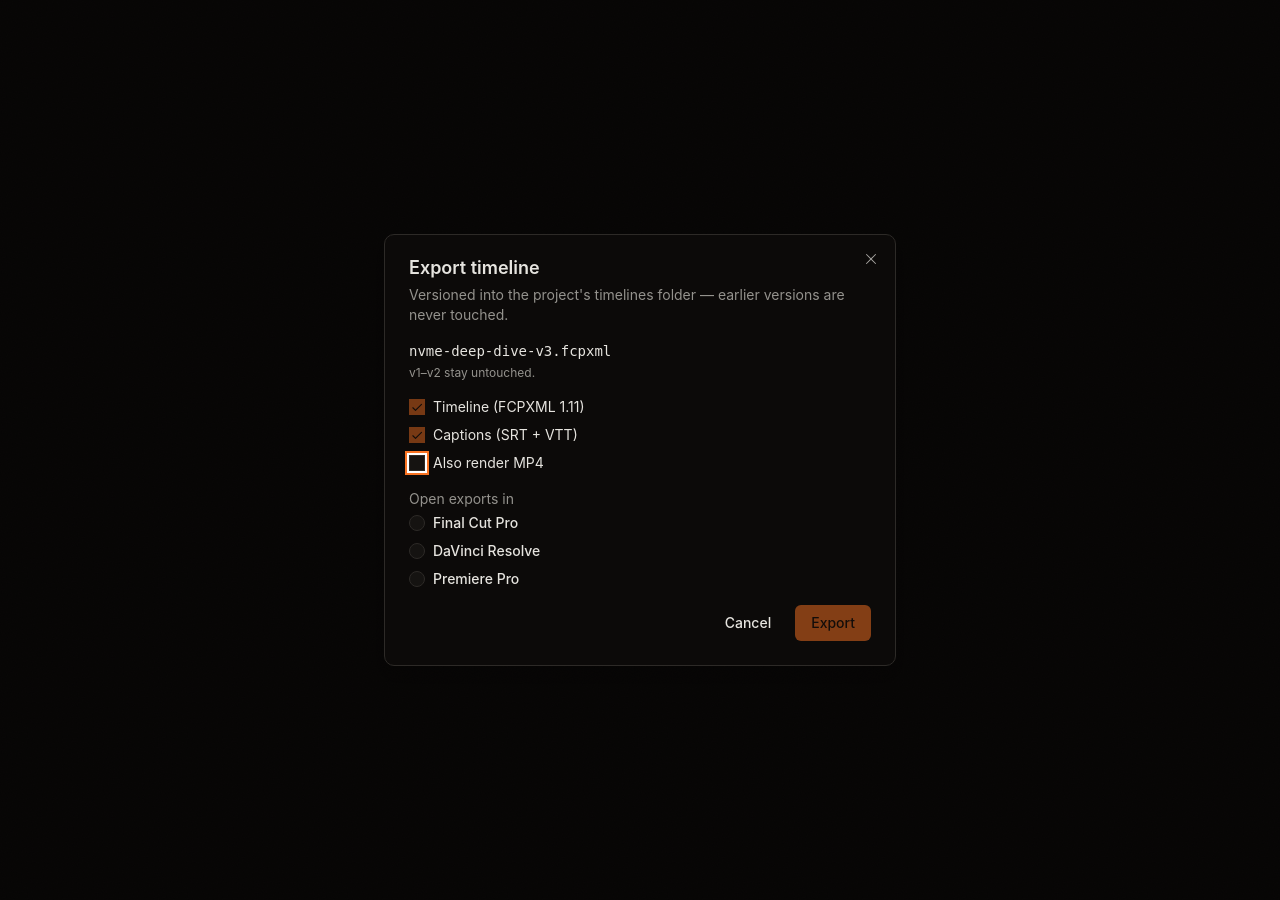
Scenario: ExportDialog › forces an NLE pick on first export and previews the exact filename
Expected: the text "nvme-deep-dive-v3.fcpxml" is shown, [409,343,611,359]
Expected: the button "Export" is disabled, [795,605,871,641]
Click the radio button named "Final Cut" next to "Final Cut Pro" at [417, 523], box [409,515,425,531]
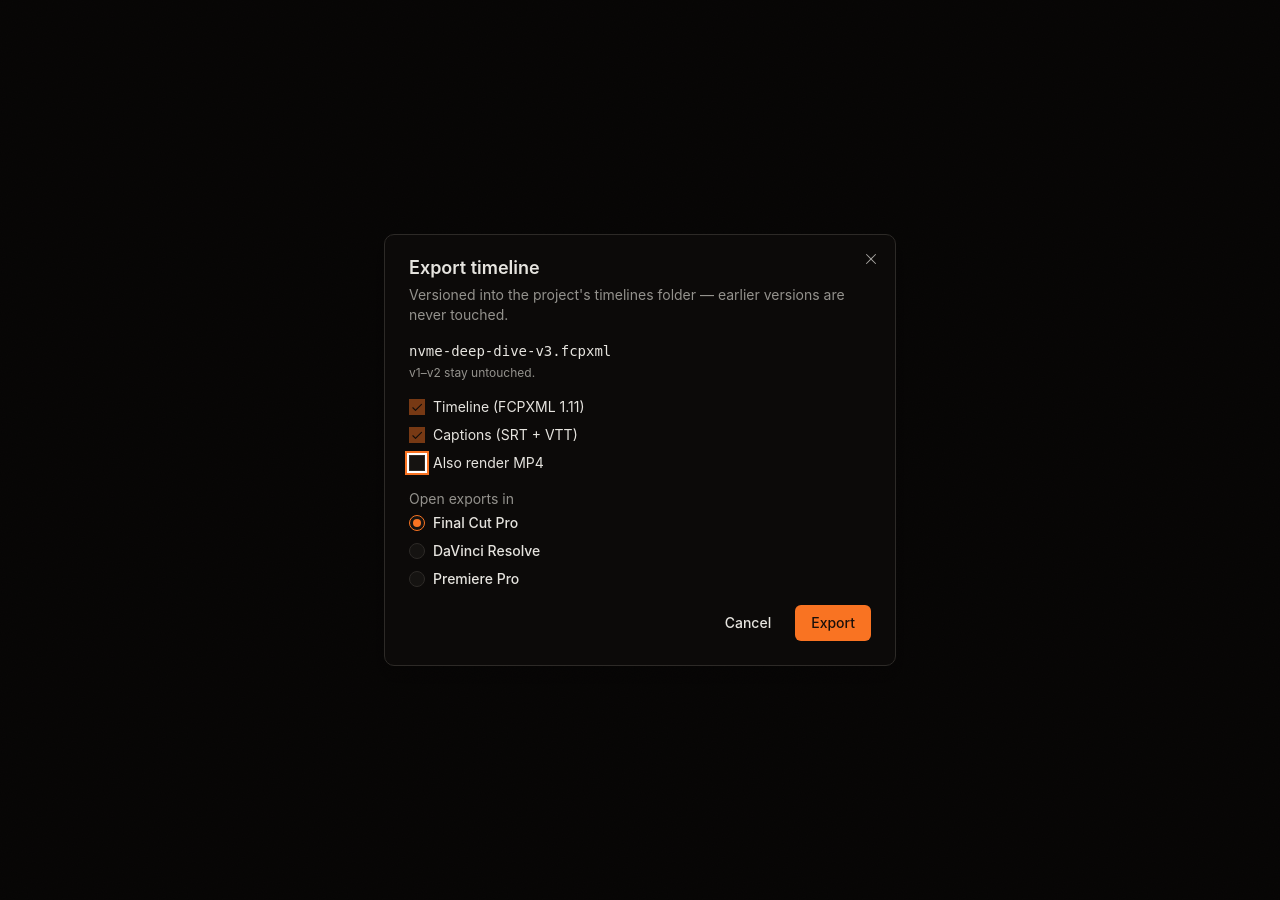
Expected: the button "Export" is enabled, [795,605,871,641]
